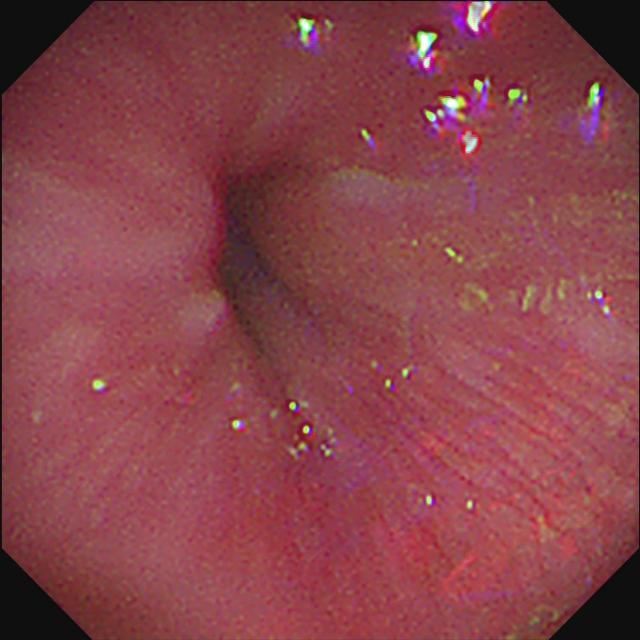U: (424, 77, 492, 155), (578, 82, 611, 144), (286, 19, 338, 54), (451, 2, 496, 38), (409, 32, 439, 74), (587, 291, 616, 320), (508, 85, 529, 109)
